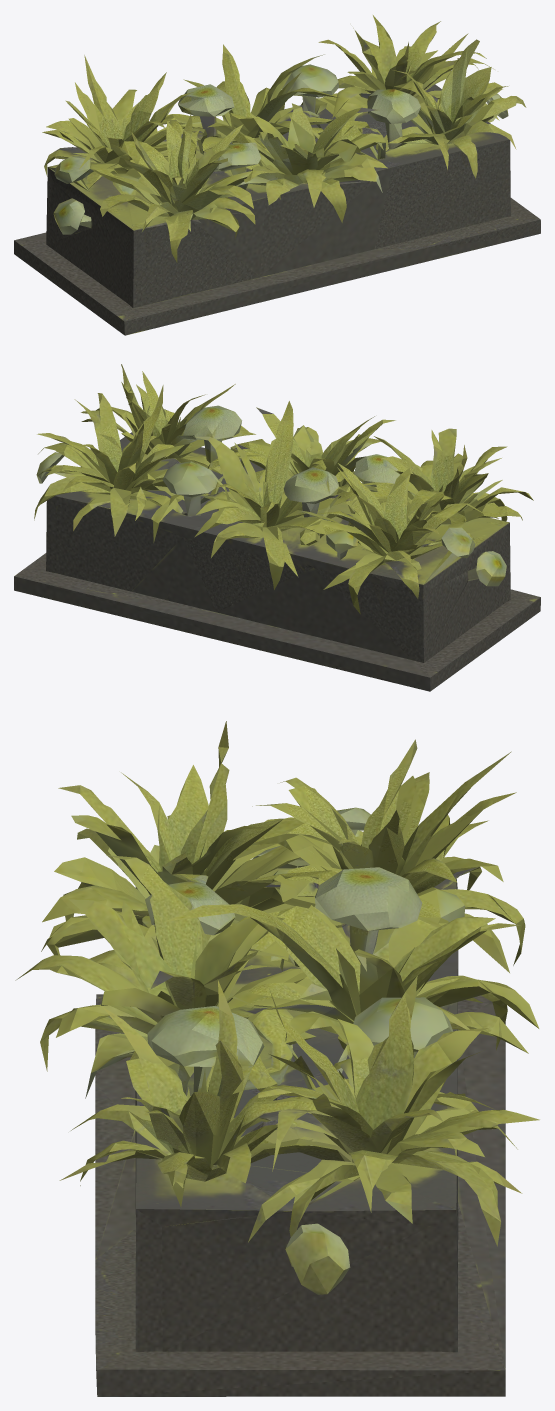
The model's file is mall_planter.glb.
The picture shows the model from 3 angles, top to bottom: view 1: azimuth 30°, elevation 25°; view 2: azimuth 150°, elevation 25°; view 3: azimuth 270°, elevation 25°; orthographic projection. The views are drawn at different scales.
Size of the model in its own units: 1.9 by 0.7287 by 1.03.
Materials: 1 (1 with a texture image).
